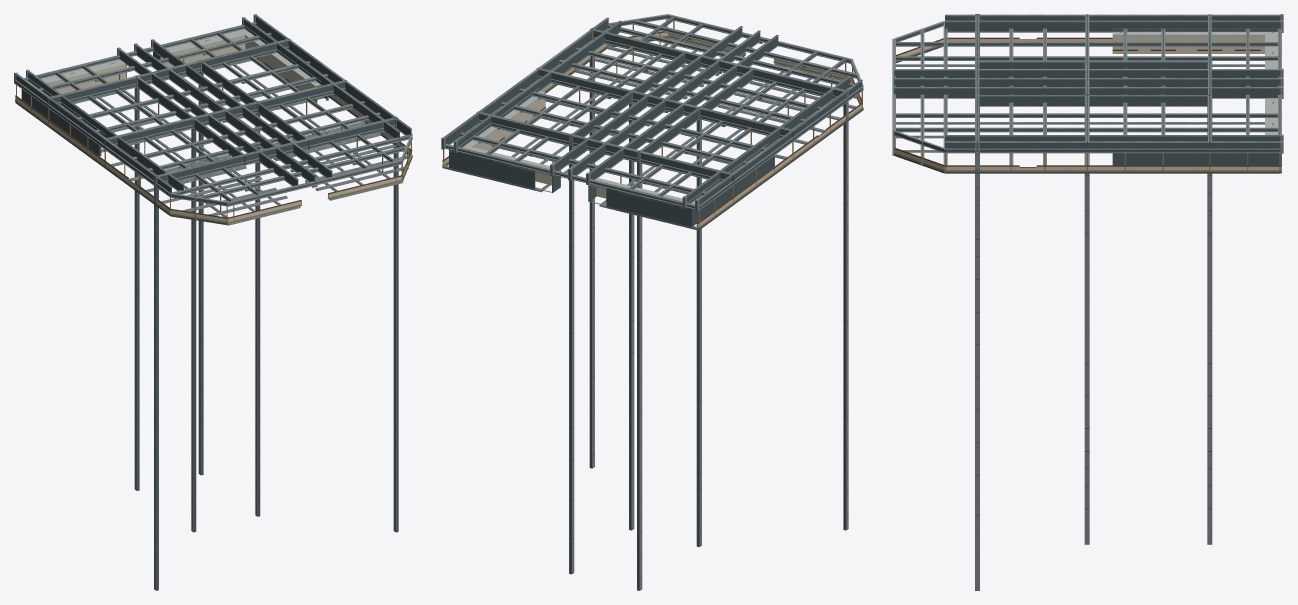
File: AST-CMD-005_fixture_clearance_r002.glb
3 renders of one model, left to right at view 1: azimuth 30°, elevation 25°; view 2: azimuth 150°, elevation 25°; view 3: azimuth 270°, elevation 25°, orthographic. The views are drawn at different scales.
Visible parts, largest first — view 1: no part large enough to name; view 2: ACP_CELL_X2_Y13_Z12_ASTRAEA_staff_bluegrey_paint, ACP_CELL_X-3_Y13_Z12_ASTRAEA_staff_bluegrey_paint, ACP_CELL_X3_Y13_Z12_ASTRAEA_staff_bluegrey_paint, ACP_CELL_X-4_Y13_Z12_ASTRAEA_staff_bluegrey_paint; view 3: ACP_CELL_X4_Y13_Z15_ASTRAEA_staff_bluegrey_paint, ACP_CELL_X4_Y13_Z14_ASTRAEA_staff_bluegrey_paint, ACP_CELL_X4_Y13_Z13_ASTRAEA_staff_bluegrey_paint, ACP_CELL_X4_Y13_Z16_ASTRAEA_staff_bluegrey_paint, ACP_CELL_X0_Y14_Z13_ASTRAEA_staff_bluegrey_paint, ACP_CELL_X0_Y14_Z23_ASTRAEA_staff_bluegrey_paint, ACP_CELL_X0_Y14_Z19_ASTRAEA_staff_bluegrey_paint, ACP_CELL_X0_Y14_Z20_ASTRAEA_staff_bluegrey_paint, ACP_CELL_X0_Y14_Z15_ASTRAEA_staff_bluegrey_paint, ACP_CELL_X0_Y14_Z22_ASTRAEA_staff_bluegrey_paint, ACP_CELL_X4_Y13_Z17_ASTRAEA_staff_bluegrey_paint, ACP_CELL_X0_Y14_Z17_ASTRAEA_staff_bluegrey_paint (+4 smaller).
Part boxes in pixels (box(x1,y1,x2,y2)): ACP_CELL_X2_Y13_Z12_ASTRAEA_staff_bluegrey_paint: box(484, 153, 513, 184); ACP_CELL_X-3_Y13_Z12_ASTRAEA_staff_bluegrey_paint: box(627, 188, 656, 218); ACP_CELL_X3_Y13_Z12_ASTRAEA_staff_bluegrey_paint: box(455, 146, 488, 178); ACP_CELL_X-4_Y13_Z12_ASTRAEA_staff_bluegrey_paint: box(652, 195, 684, 225); ACP_CELL_X4_Y13_Z15_ASTRAEA_staff_bluegrey_paint: box(1158, 149, 1219, 173); ACP_CELL_X4_Y13_Z14_ASTRAEA_staff_bluegrey_paint: box(1205, 149, 1250, 173); ACP_CELL_X4_Y13_Z13_ASTRAEA_staff_bluegrey_paint: box(1239, 149, 1280, 173); ACP_CELL_X4_Y13_Z16_ASTRAEA_staff_bluegrey_paint: box(1128, 149, 1171, 173); ACP_CELL_X0_Y14_Z13_ASTRAEA_staff_bluegrey_paint: box(1239, 78, 1273, 99); ACP_CELL_X0_Y14_Z23_ASTRAEA_staff_bluegrey_paint: box(901, 78, 935, 99); ACP_CELL_X0_Y14_Z19_ASTRAEA_staff_bluegrey_paint: box(1036, 78, 1070, 94); ACP_CELL_X0_Y14_Z20_ASTRAEA_staff_bluegrey_paint: box(1002, 78, 1036, 94); ACP_CELL_X0_Y14_Z15_ASTRAEA_staff_bluegrey_paint: box(1171, 78, 1205, 94); ACP_CELL_X0_Y14_Z22_ASTRAEA_staff_bluegrey_paint: box(935, 78, 968, 99); ACP_CELL_X4_Y13_Z17_ASTRAEA_staff_bluegrey_paint: box(1097, 149, 1137, 173); ACP_CELL_X0_Y14_Z17_ASTRAEA_staff_bluegrey_paint: box(1104, 78, 1137, 94).
Size of the model in its own units: 71.95 by 117 by 92.66.
Materials: 8 (8 with a texture image).
